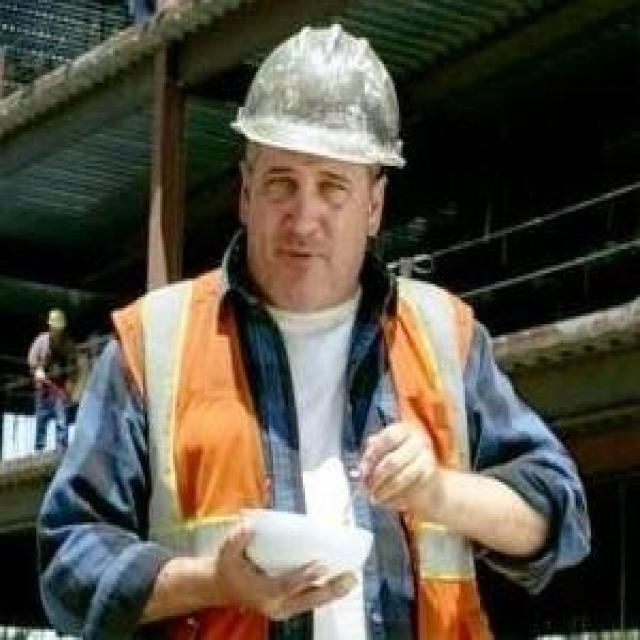Reflective-Jacket: (107, 262, 490, 638)
Safety-Helmet: (226, 19, 416, 182)
